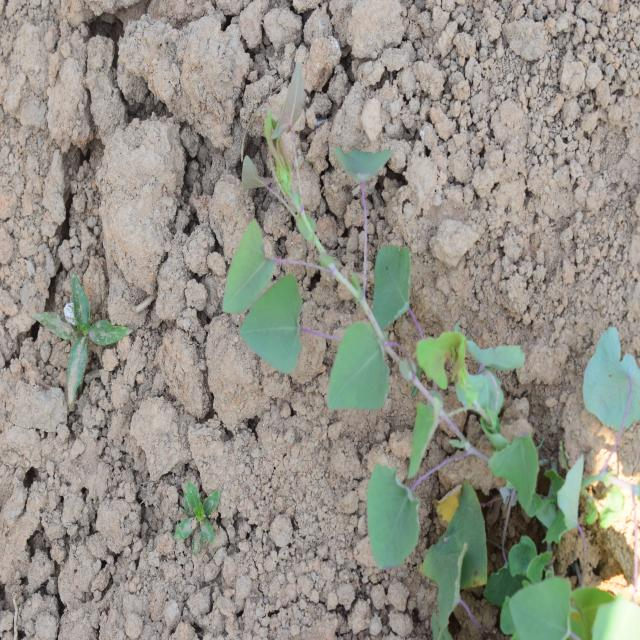Asiatic_Smartweed: (224, 103, 408, 411), (353, 444, 439, 578)
